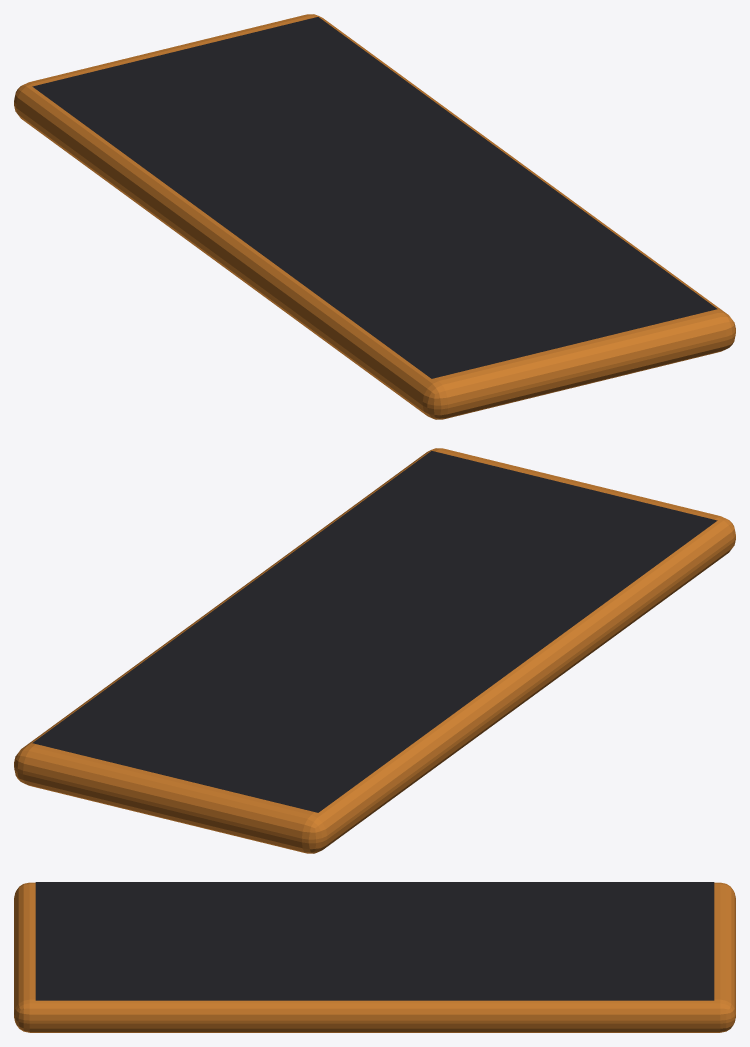
File: oneplus-nord-ce-model-268-budget-2026.glb
3 renders of one model, top to bottom at view 1: azimuth 30°, elevation 25°; view 2: azimuth 150°, elevation 25°; view 3: azimuth 270°, elevation 25°, orthographic. The views are drawn at different scales.
Visible parts, largest first — view 1: Phone_Screen, Phone_Body; view 2: Phone_Screen, Phone_Body; view 3: Phone_Screen, Phone_Body.
Part boxes in pixels (<box>): Phone_Screen: <box>32,17,717,378</box>; Phone_Body: <box>14,14,735,419</box>; Phone_Screen: <box>32,451,717,812</box>; Phone_Body: <box>14,448,735,853</box>; Phone_Screen: <box>35,882,714,1000</box>; Phone_Body: <box>14,882,735,1032</box>.
Bounding box in the file's own units: 0.0714 × 0.0083 × 0.169.
